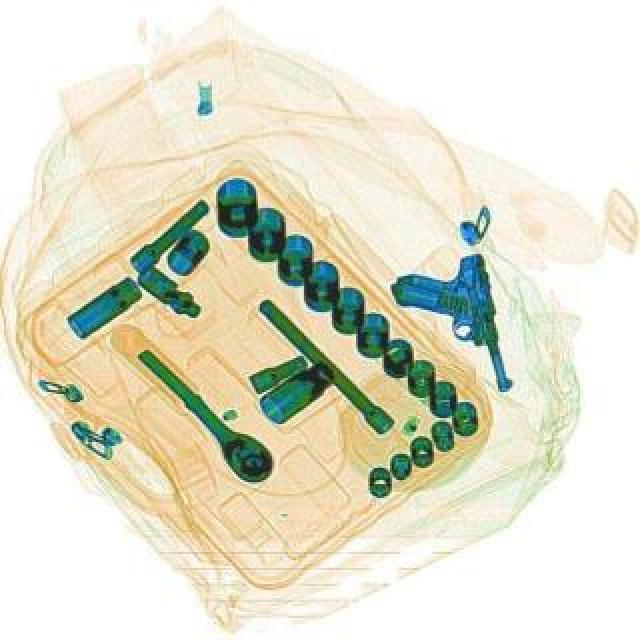gun: (386, 252, 516, 408)
